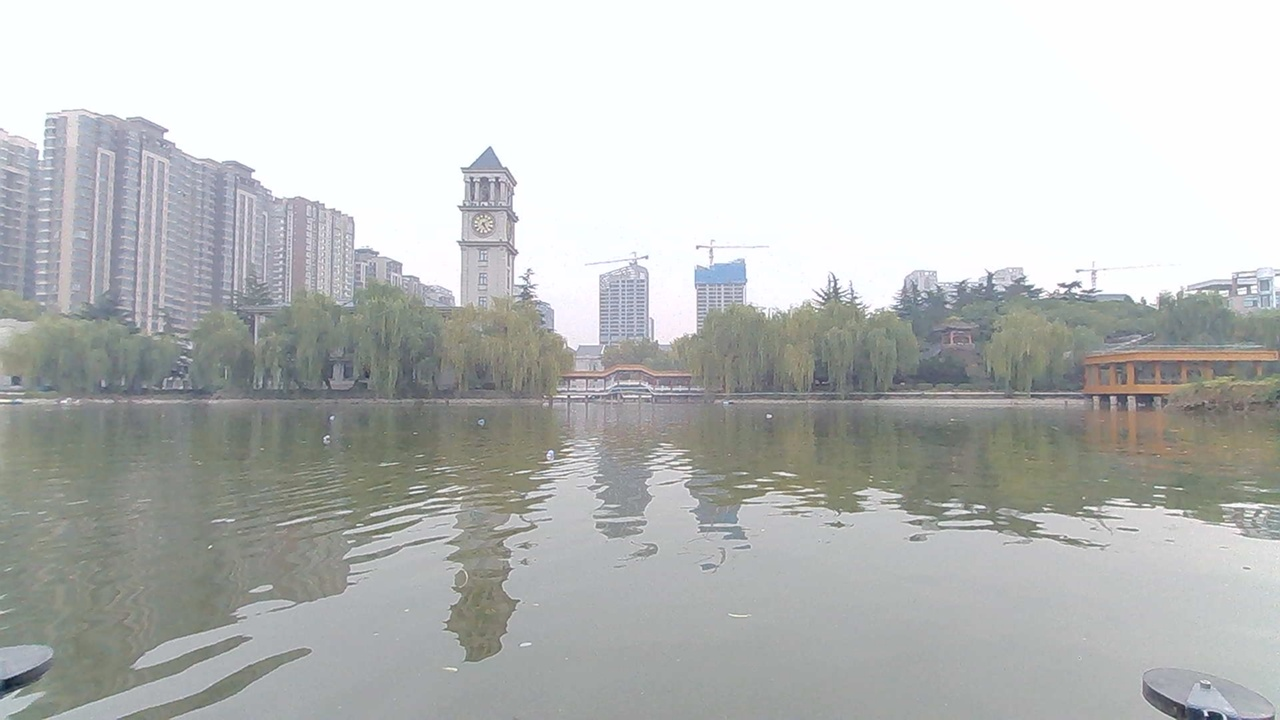bottle: (525, 438, 585, 471), (463, 407, 514, 440), (309, 429, 350, 452), (748, 406, 787, 429), (320, 400, 356, 424)
